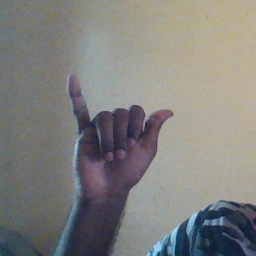J: (64, 72, 176, 191)
